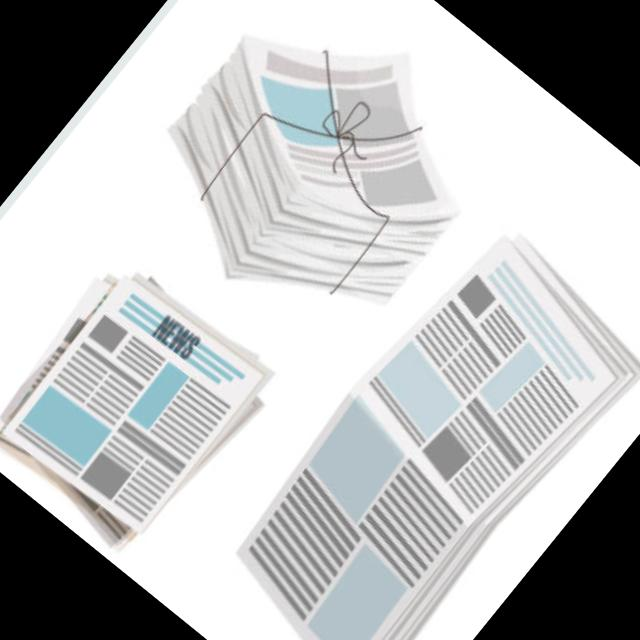Koran: (198, 209, 640, 640), (116, 0, 520, 367), (0, 244, 286, 566)
